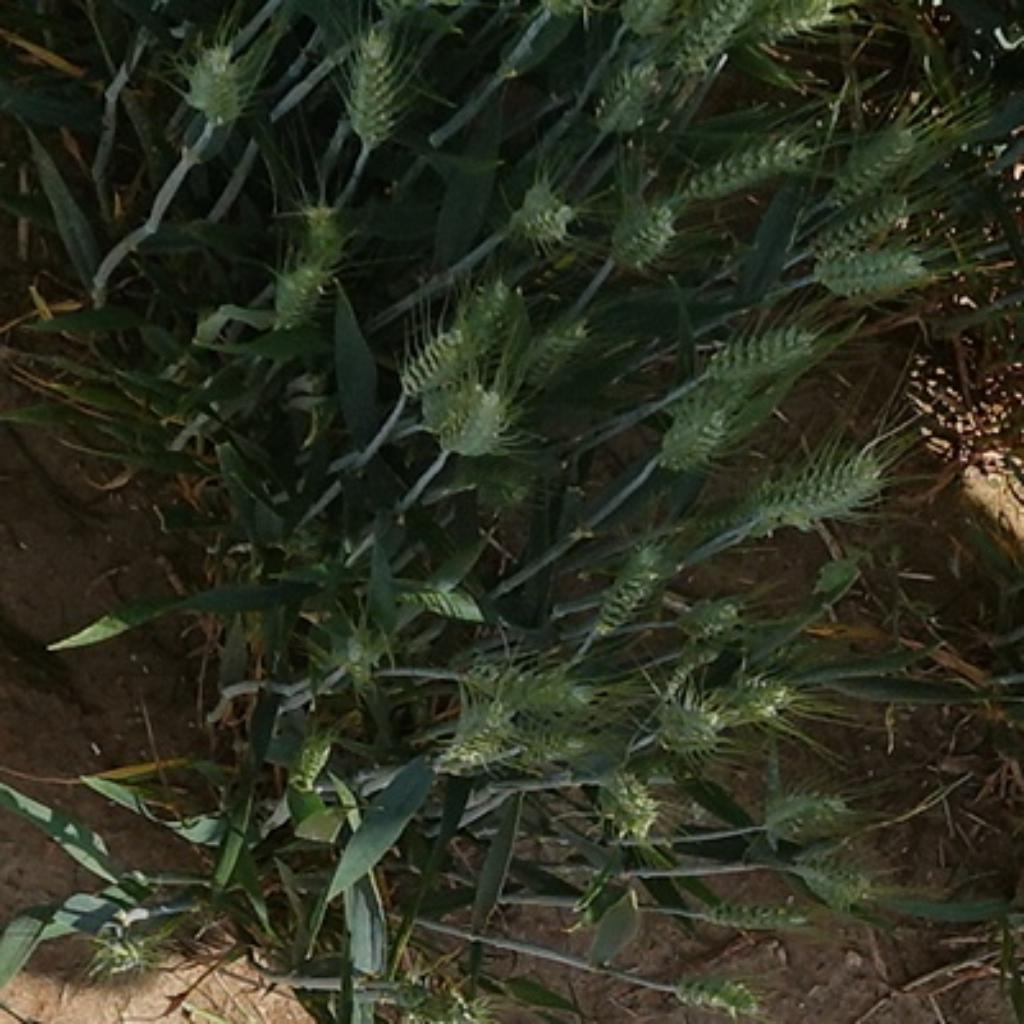0-0: (803, 112, 944, 199), (744, 445, 890, 524), (680, 125, 819, 202), (801, 225, 934, 304), (588, 524, 688, 629), (591, 48, 698, 143), (332, 23, 412, 148), (445, 258, 527, 363), (176, 35, 258, 128), (656, 390, 744, 475), (601, 184, 683, 271), (496, 322, 596, 391), (757, 780, 862, 842), (467, 659, 590, 711), (801, 197, 908, 256), (706, 325, 821, 378), (588, 760, 665, 839), (673, 0, 750, 76), (399, 324, 473, 399), (269, 263, 339, 339), (424, 721, 518, 775), (755, 1, 837, 59), (801, 852, 877, 912), (444, 389, 508, 458), (709, 679, 795, 727), (675, 588, 747, 645), (605, 0, 670, 63), (284, 727, 345, 793), (655, 697, 722, 753), (423, 373, 483, 432), (708, 902, 814, 935), (514, 196, 578, 247), (675, 978, 762, 1015), (93, 927, 142, 978), (301, 208, 342, 259), (350, 637, 378, 693)
